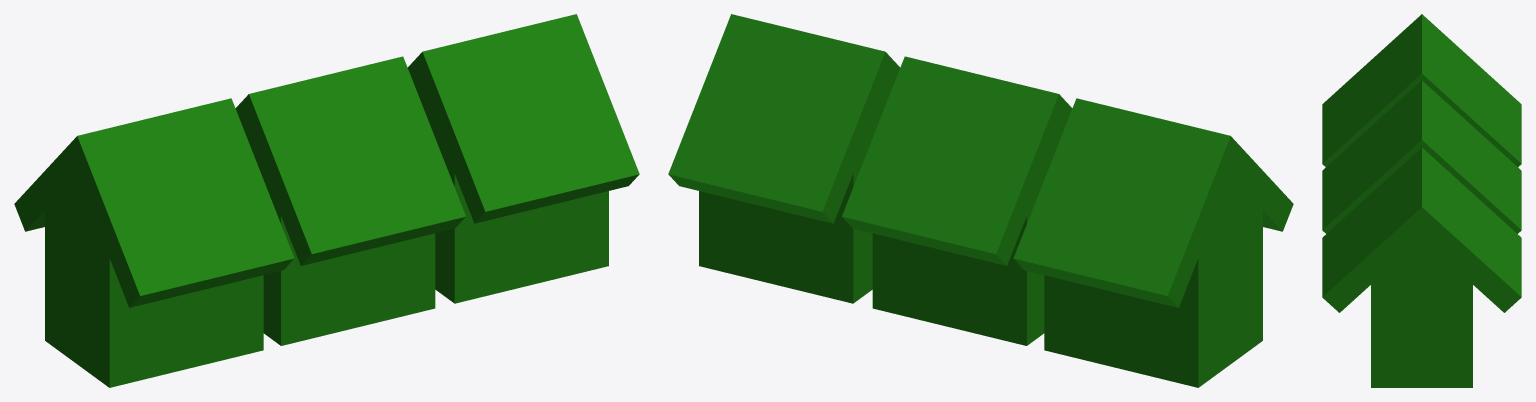
File: maison3.glb
3 renders of one model, left to right at view 1: azimuth 30°, elevation 25°; view 2: azimuth 150°, elevation 25°; view 3: azimuth 270°, elevation 25°, orthographic. The views are drawn at different scales.
Visible parts, largest first — view 1: Cube.001; view 2: Cube.001; view 3: Cube.001.
Boxes of the visible parts, left/top/right/bottom form: Cube.001: left=14, top=14, right=639, bottom=387; Cube.001: left=668, top=14, right=1293, bottom=387; Cube.001: left=1322, top=14, right=1521, bottom=387.
Size of the model in its own units: 1.02 by 0.4469 by 0.4467.
